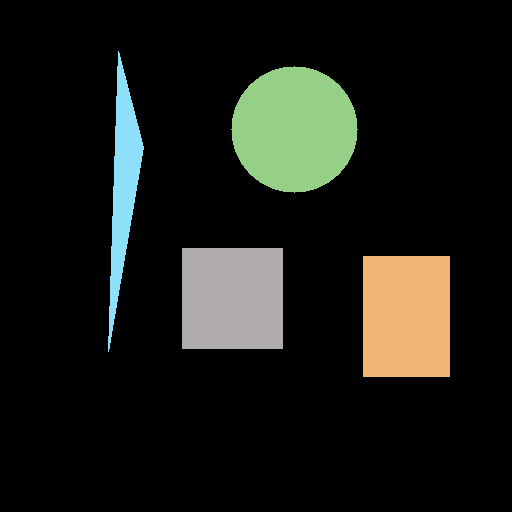circle: (231, 66, 357, 192)
rectangle: (363, 256, 449, 376)
square: (182, 248, 282, 348)
triangle: (108, 51, 143, 351)
